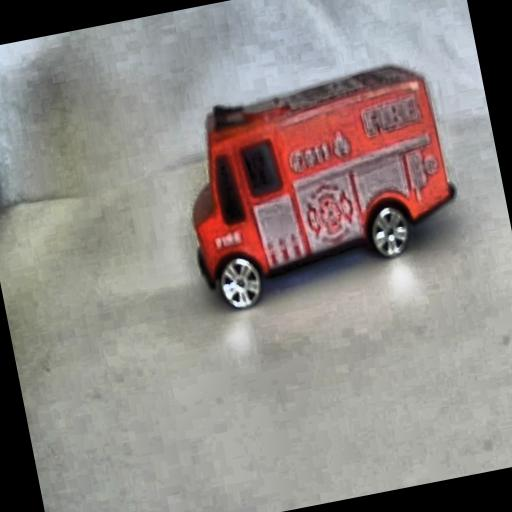fire_truck: (158, 52, 473, 320), (318, 76, 428, 146)
